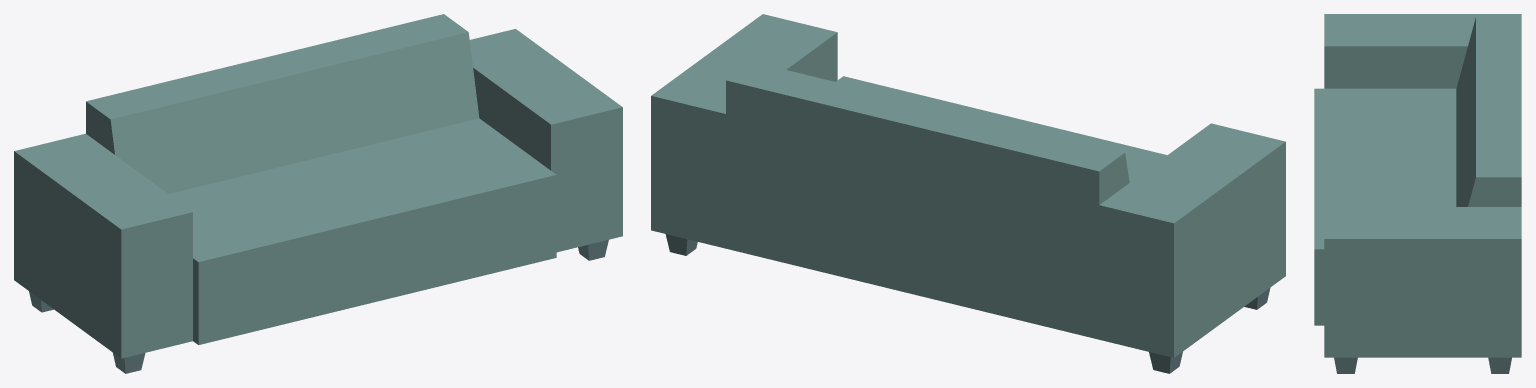
The model's file is Lounge_Sofa.glb.
3 views of the same model, side by side, from view 1: azimuth 30°, elevation 25°; view 2: azimuth 150°, elevation 25°; view 3: azimuth 270°, elevation 25° (orthographic). The views are drawn at different scales.
Visible parts, largest first — view 1: loungeDesignSofa(Clone); view 2: loungeDesignSofa(Clone); view 3: loungeDesignSofa(Clone).
Boxes of the visible parts, <box> form: loungeDesignSofa(Clone): <box>14,14,622,373</box>; loungeDesignSofa(Clone): <box>651,14,1285,373</box>; loungeDesignSofa(Clone): <box>1314,14,1521,373</box>.
Size of the model in its own units: 1.85 by 0.65 by 0.72.
